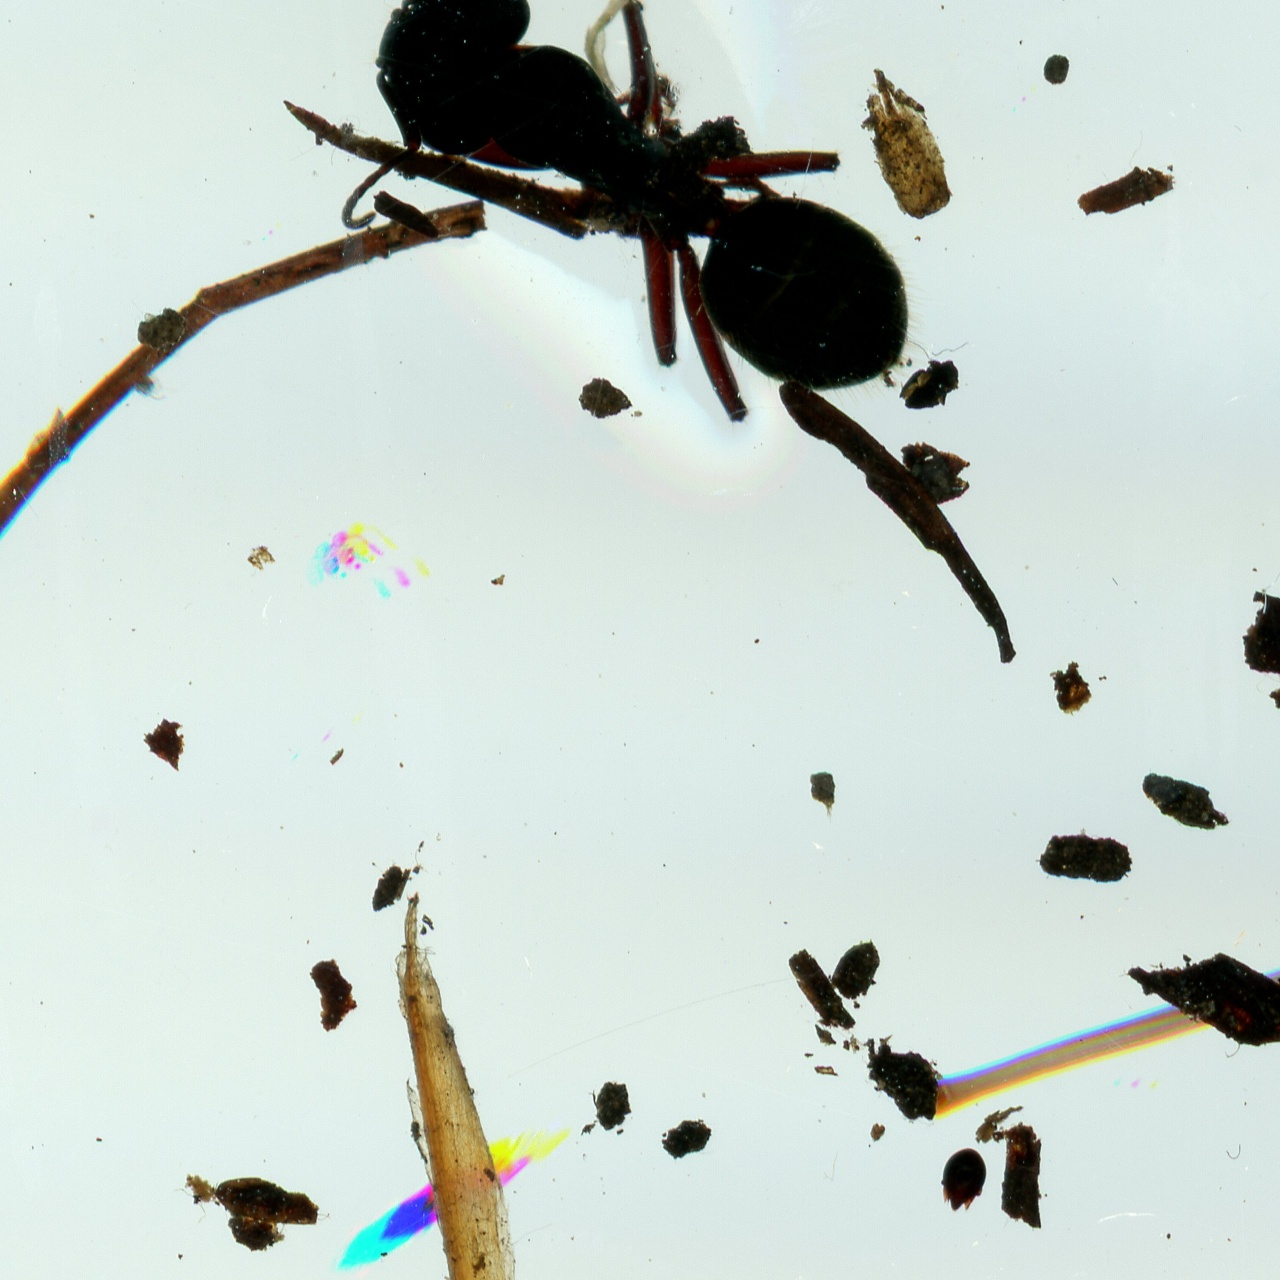arthropod: (277, 0, 1034, 481)
